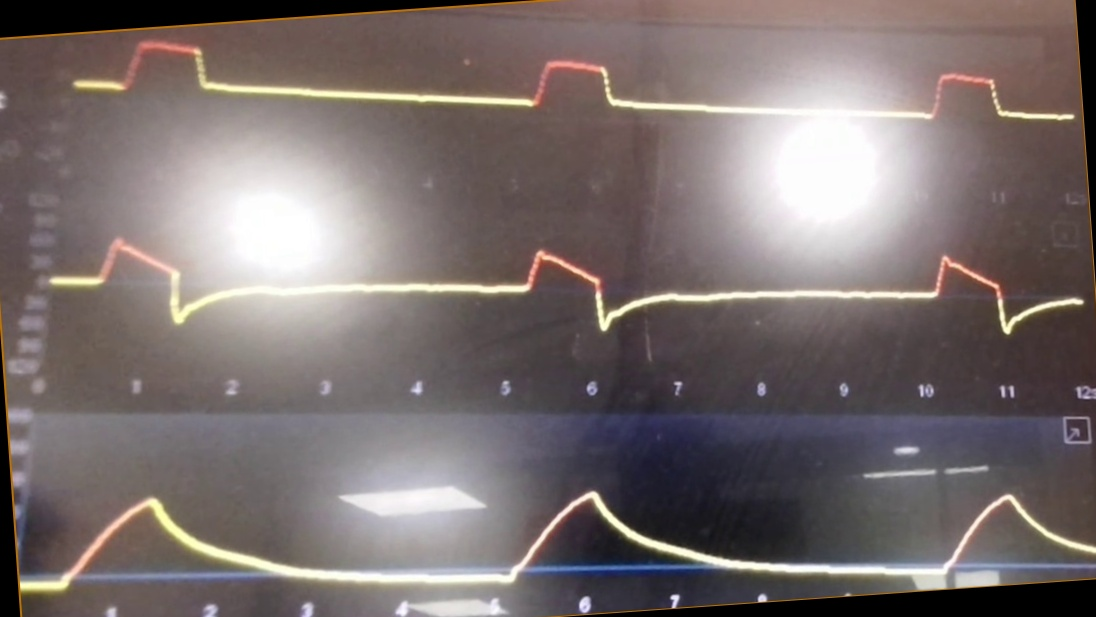Normal Flow: (51, 213, 1084, 363)
Normal Volume: (22, 453, 1096, 600)
